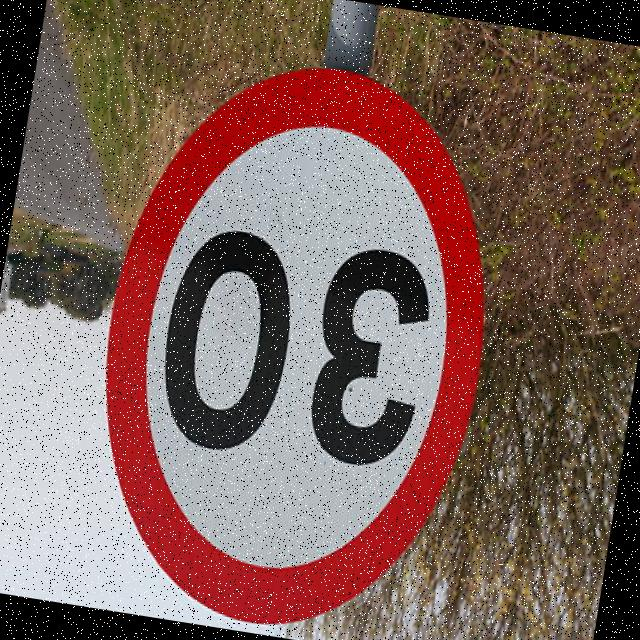speed_limit_30: (64, 33, 529, 640)
